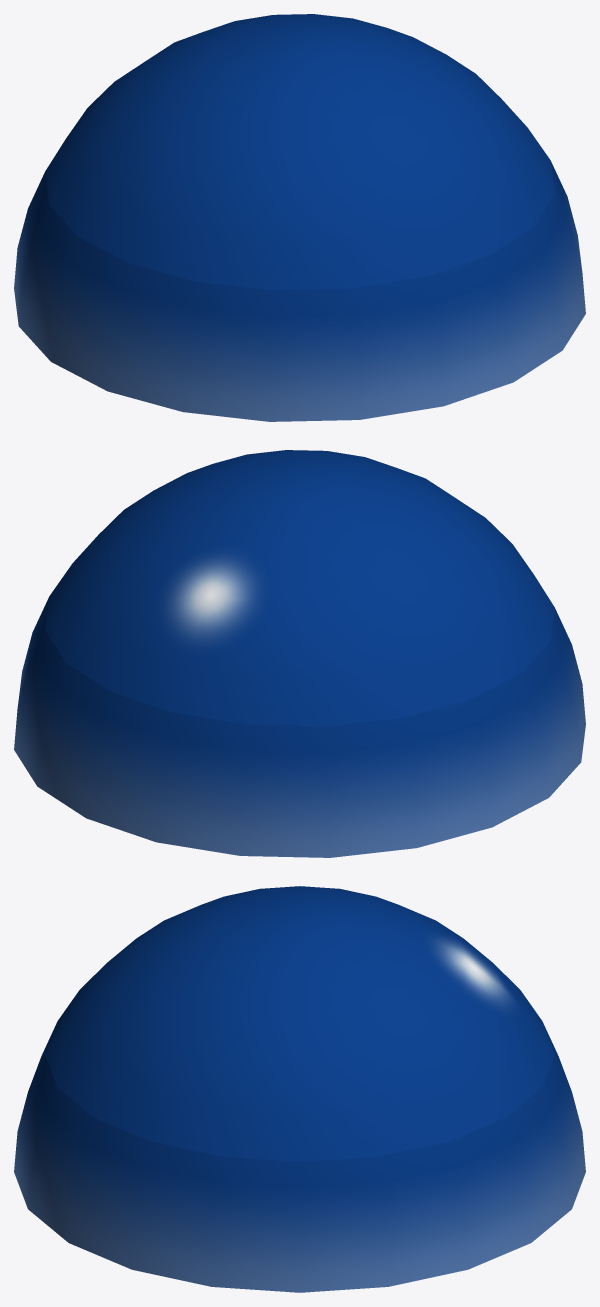
File: map011_sky.fbx
3 renders of one model, top to bottom at view 1: azimuth 30°, elevation 25°; view 2: azimuth 150°, elevation 25°; view 3: azimuth 270°, elevation 25°, orthographic.
Parts seen in each view (by area): view 1: sky1; view 2: sky1; view 3: sky1.
Part boxes in pixels (<box>): sky1: <box>14,14,585,421</box>; sky1: <box>14,450,585,857</box>; sky1: <box>14,886,585,1292</box>.
Bounding box in the file's own units: 425 × 212 × 425.
